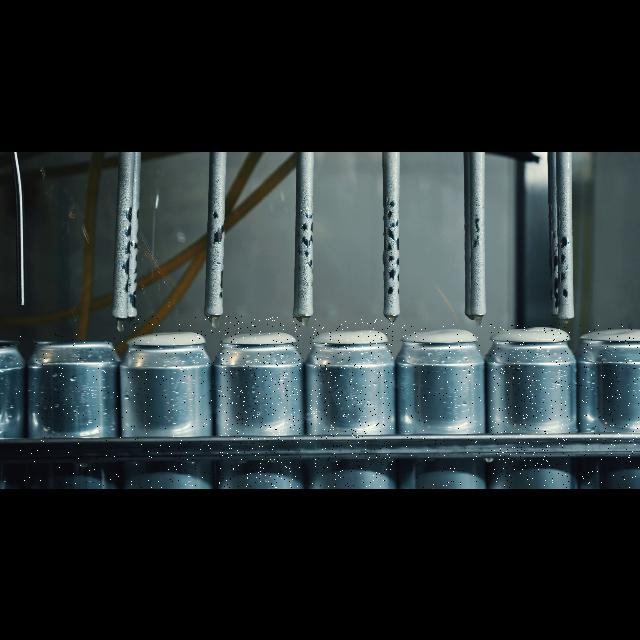empty: (16, 334, 124, 488)
full: (126, 316, 214, 488), (310, 318, 394, 488), (219, 316, 301, 488), (402, 324, 482, 488), (490, 324, 570, 488), (578, 324, 640, 488)
